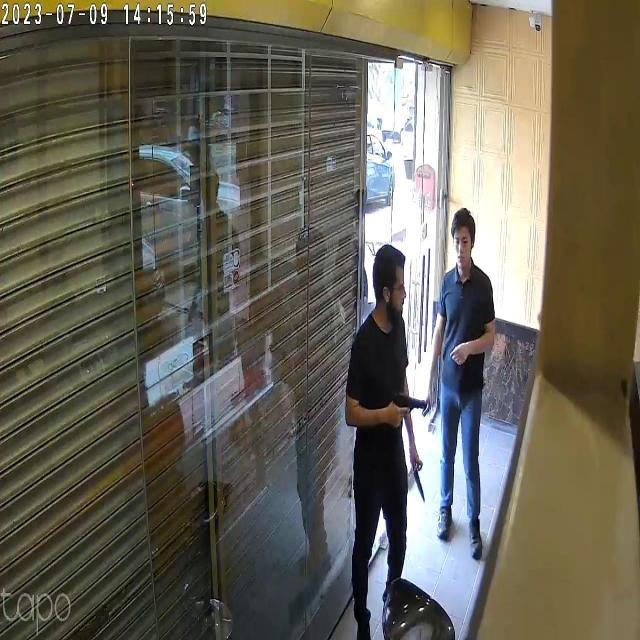Gun: (380, 382, 434, 428)
Knife: (410, 458, 433, 508)
